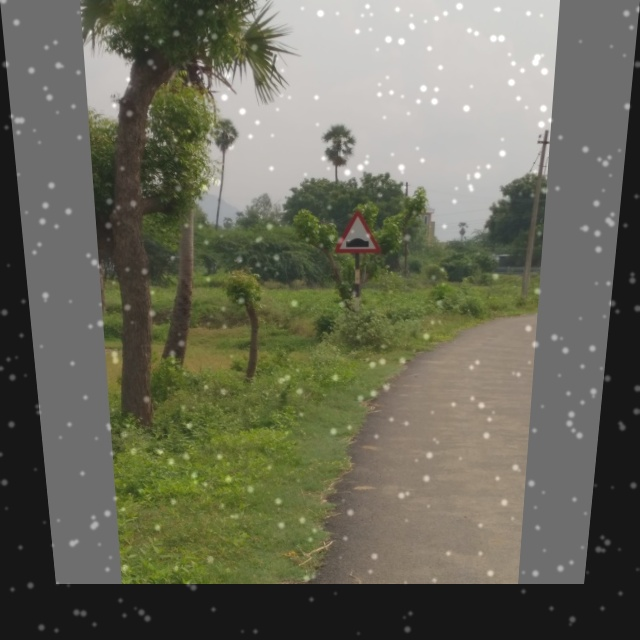Hump_or_Rough_Road: (330, 206, 383, 258)
